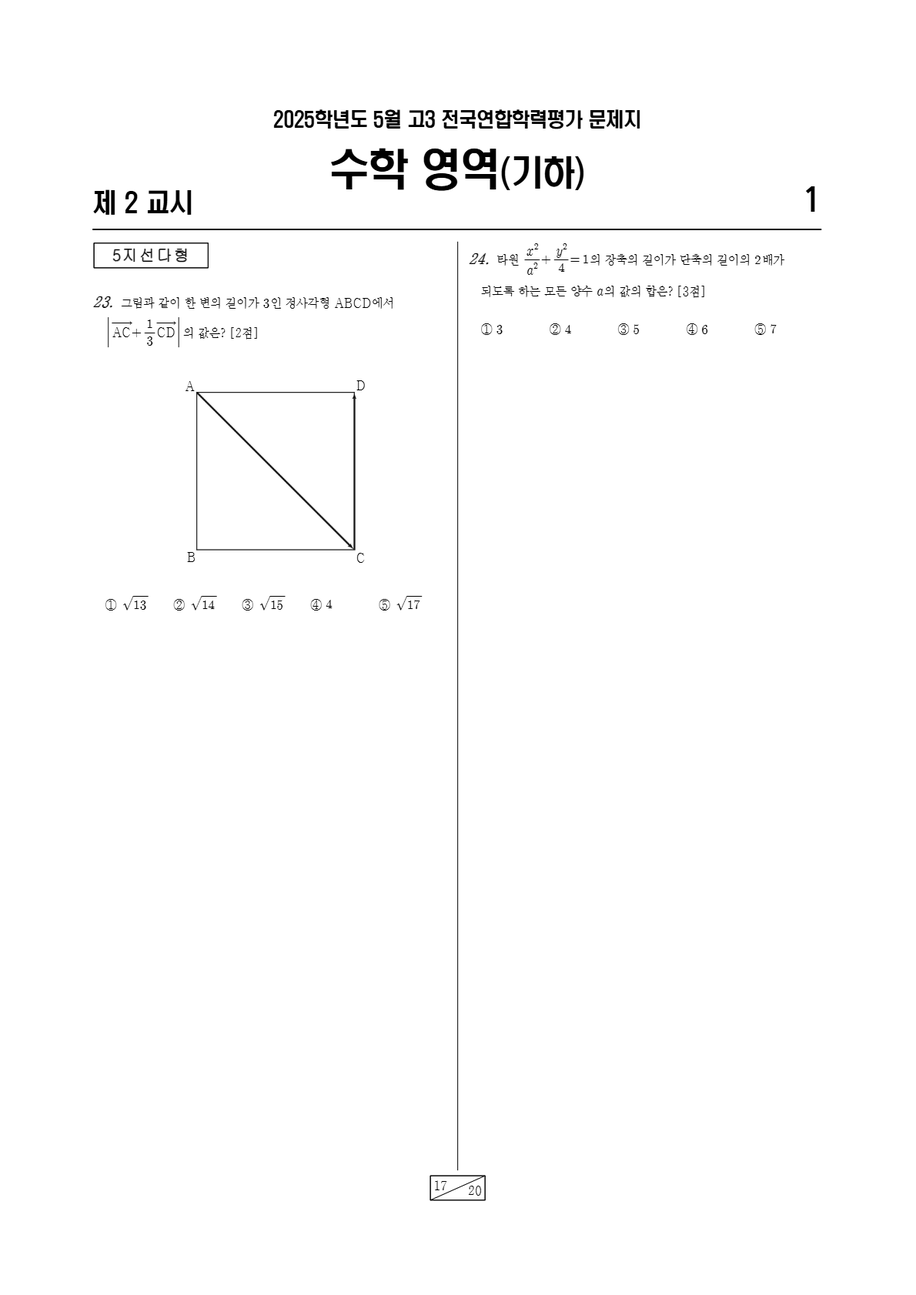opt_1: (104, 597, 117, 611), (480, 322, 492, 335)
opt_2: (173, 597, 184, 611), (550, 323, 560, 335)
opt_3: (242, 597, 253, 611), (618, 322, 628, 335)
opt_4: (310, 597, 322, 611), (686, 321, 697, 335)
opt_5: (378, 597, 389, 611), (754, 322, 765, 335)
